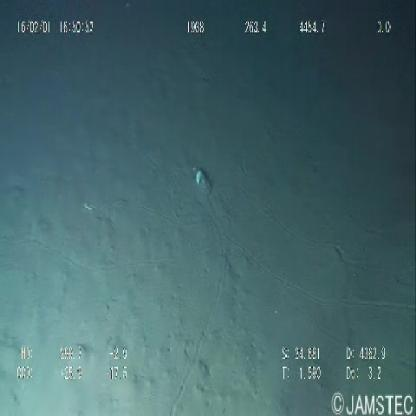Rác: (190, 160, 226, 205)
